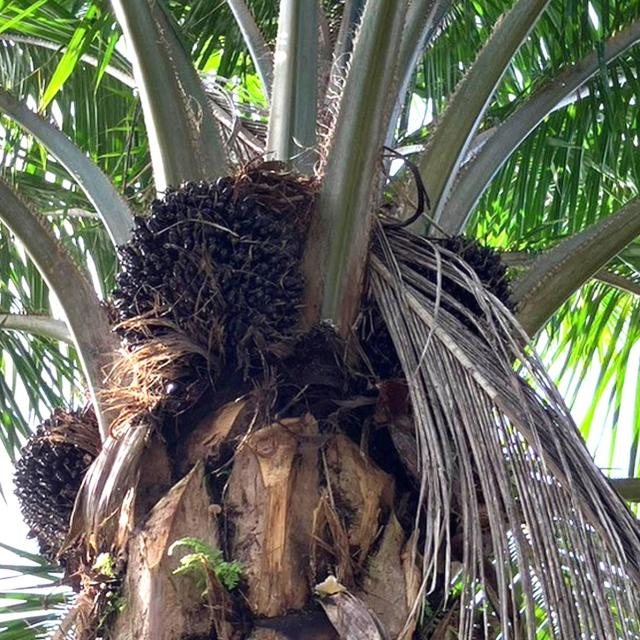unripe: (117, 159, 319, 375)
